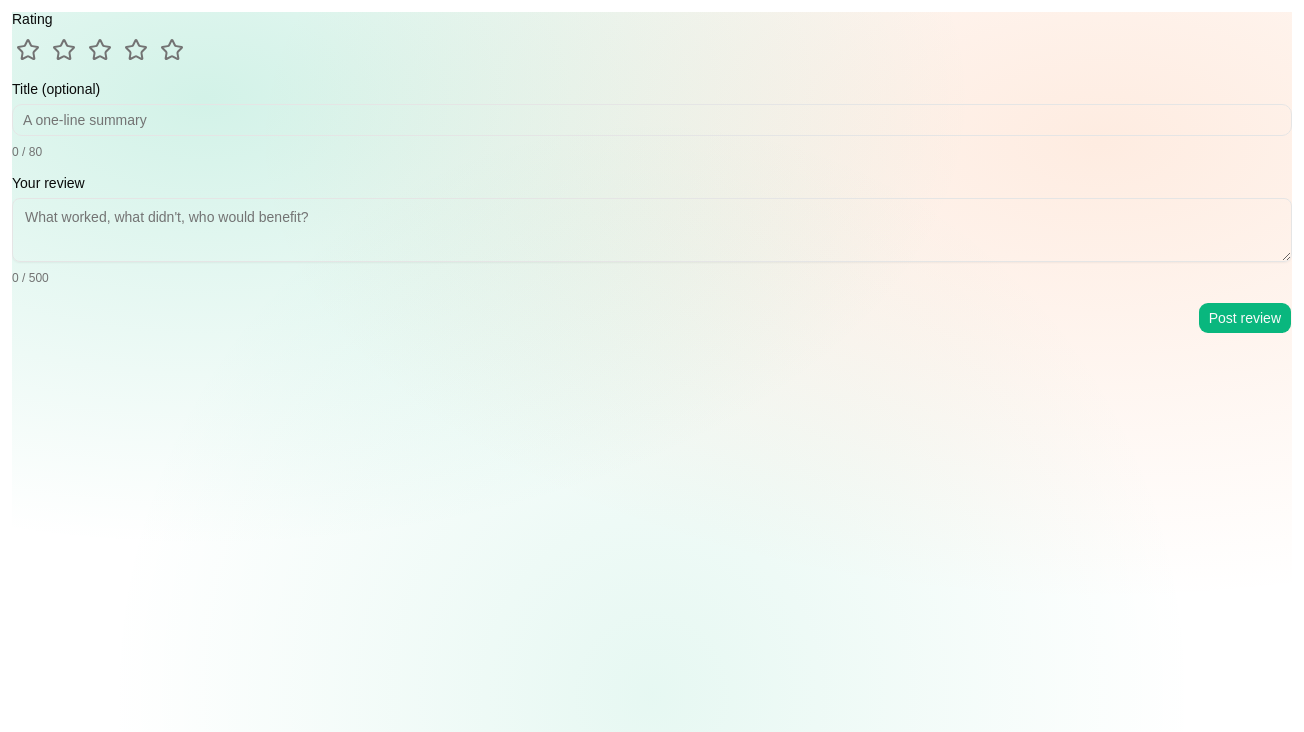
Test: WriteReviewDialog › WR3: shows validation error when body is empty
This screenshot has width=1304, height=732.
Click the radio button named "5 stars": point(172, 50) [156,34,188,66]
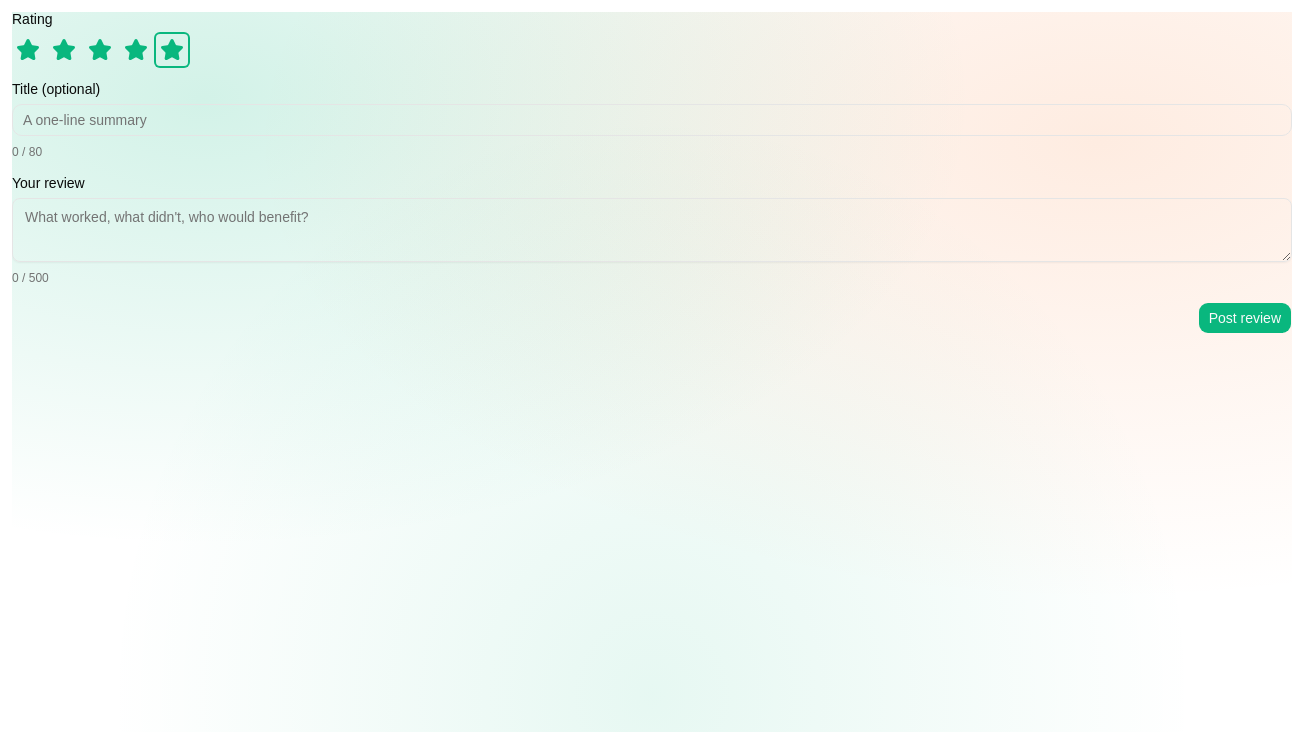
Click the button "Post review": point(1245, 318) [1198,302,1292,334]
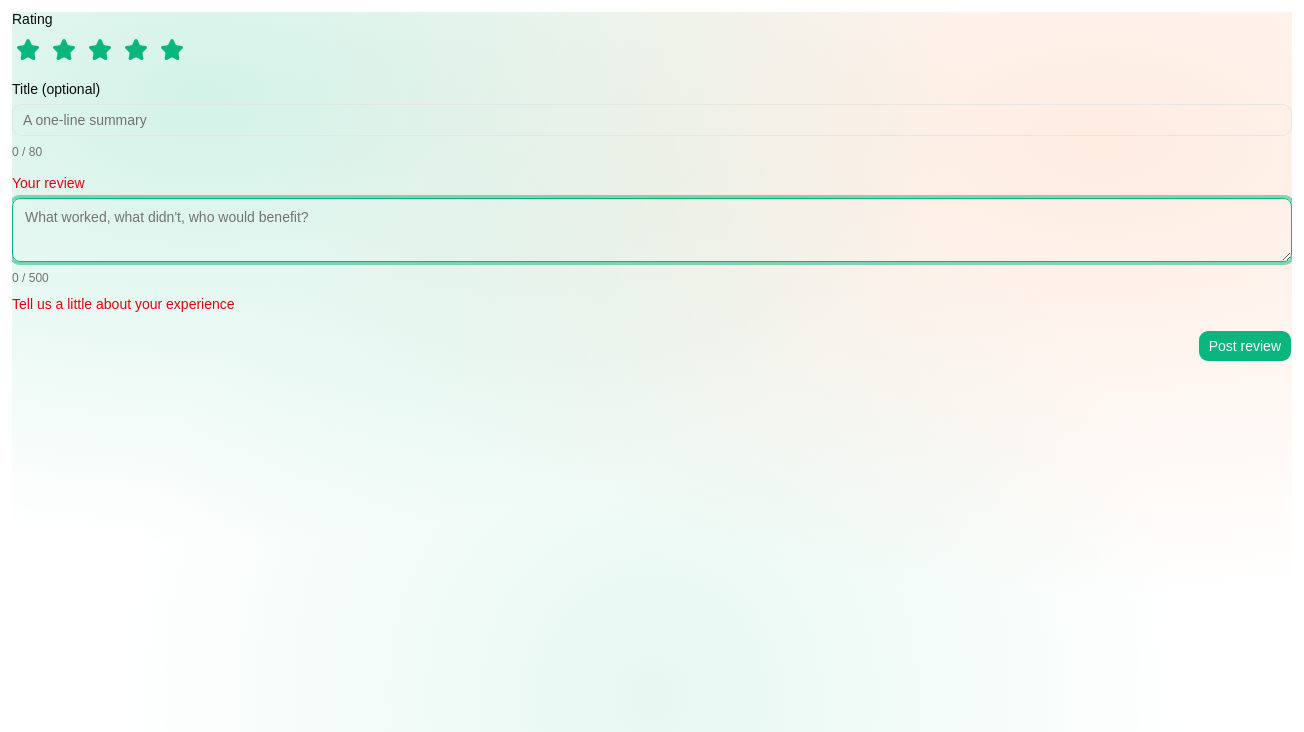
Expected: the text "Tell us a little about your experience" is shown, [12,296,235,312]
